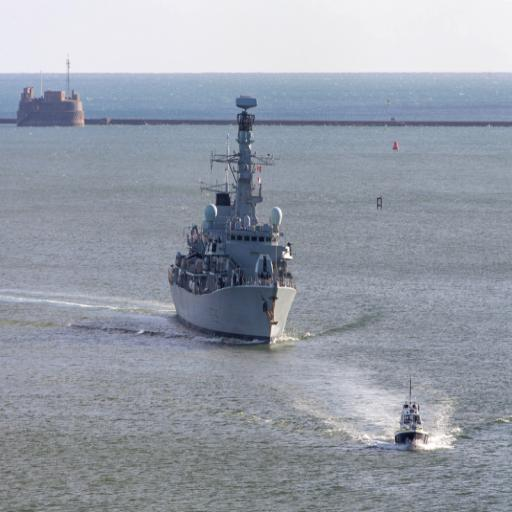Fragata: (166, 84, 303, 347)
